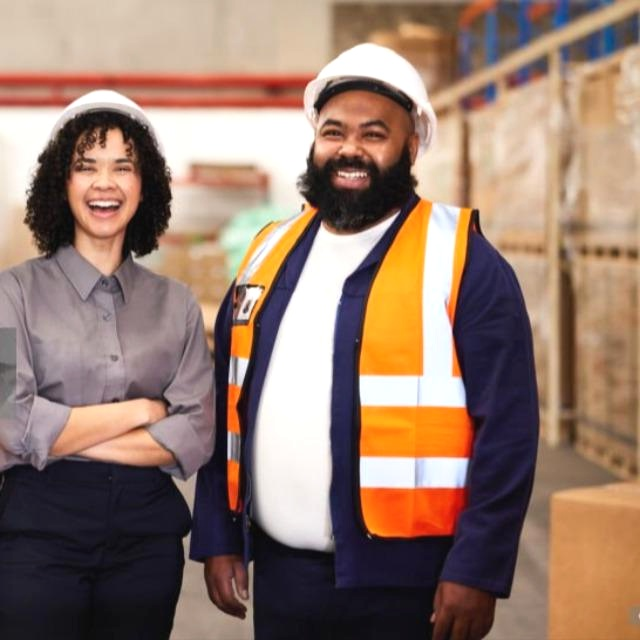Con_Casco: (38, 88, 170, 246), (300, 46, 436, 199)
Con_Chaleco: (224, 202, 500, 544)
Sin_Chaleco: (0, 250, 206, 489)
